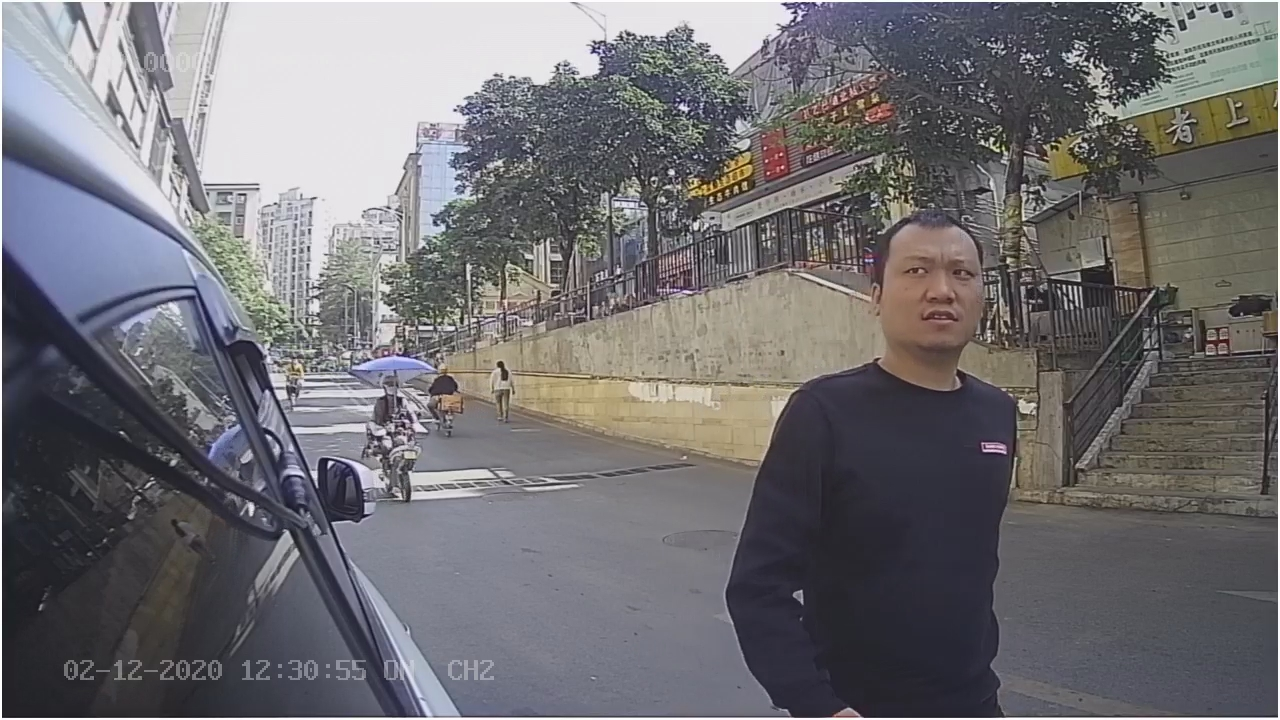person: (729, 210, 1024, 590)
